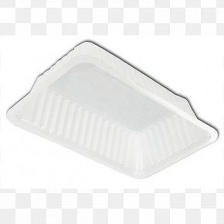plastic_box: (0, 36, 224, 184)
